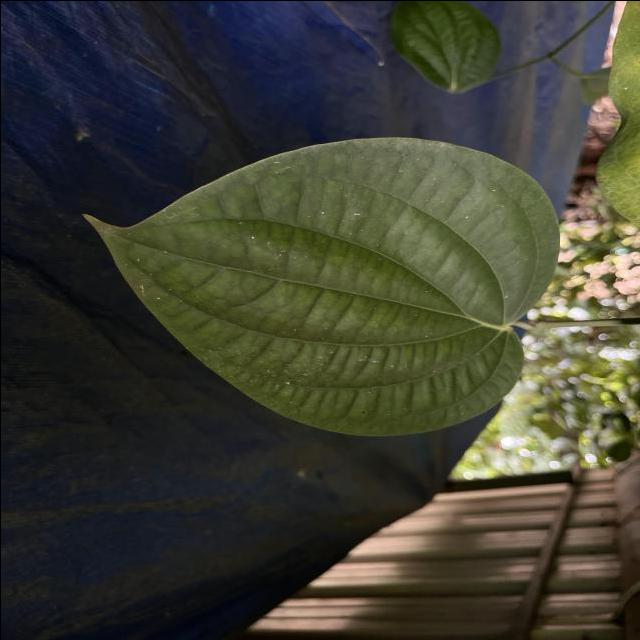Piper nigrum: (75, 134, 562, 441)
